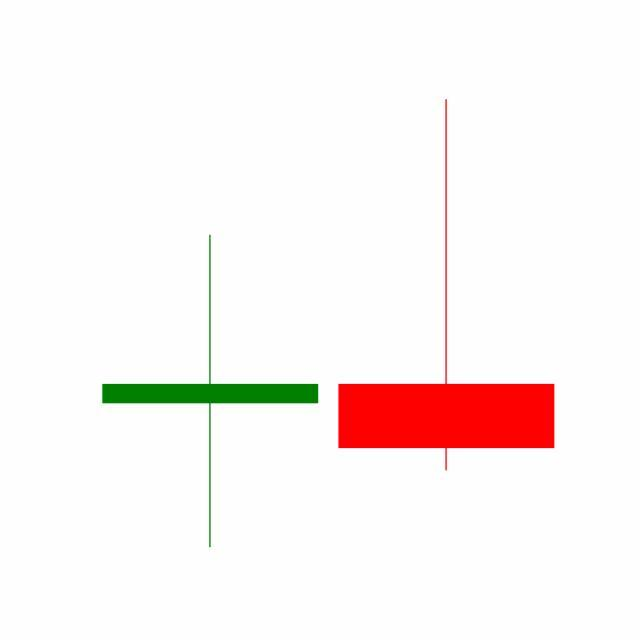Gravestone Doji: (328, 96, 566, 476)
